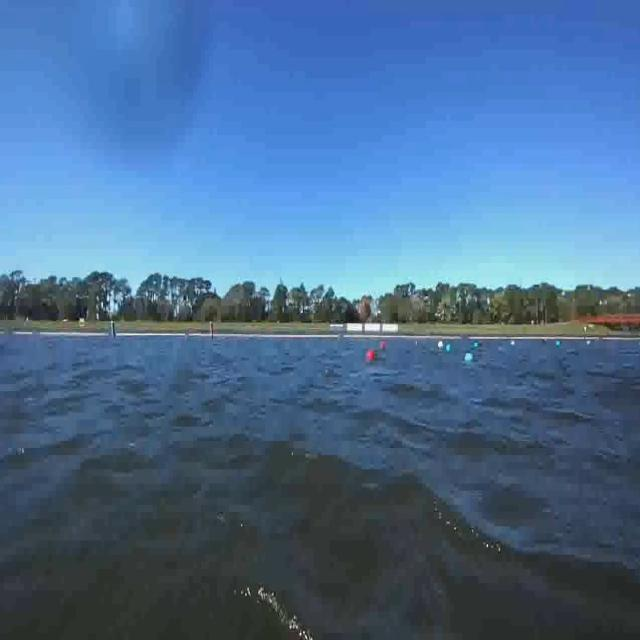green-buoy: (465, 354, 473, 363)
red-buoy: (366, 350, 374, 362)
